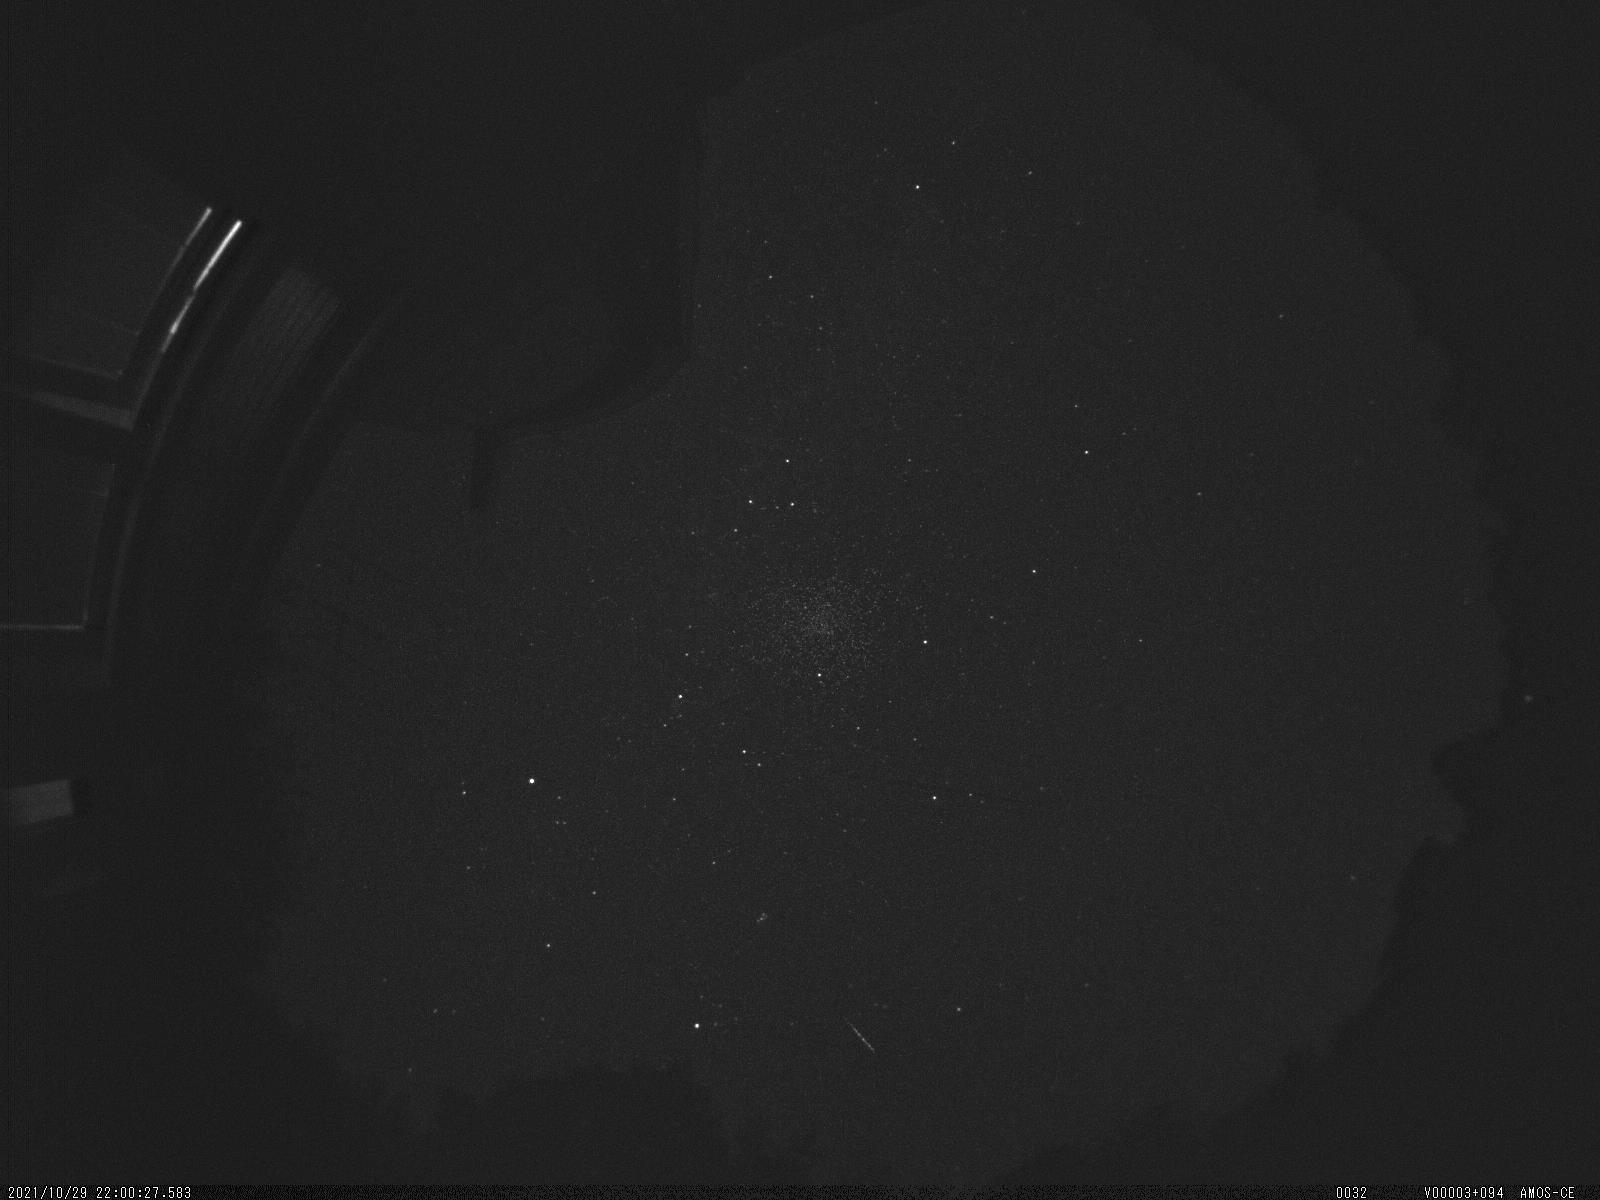Meteor: (834, 1005, 889, 1067)
